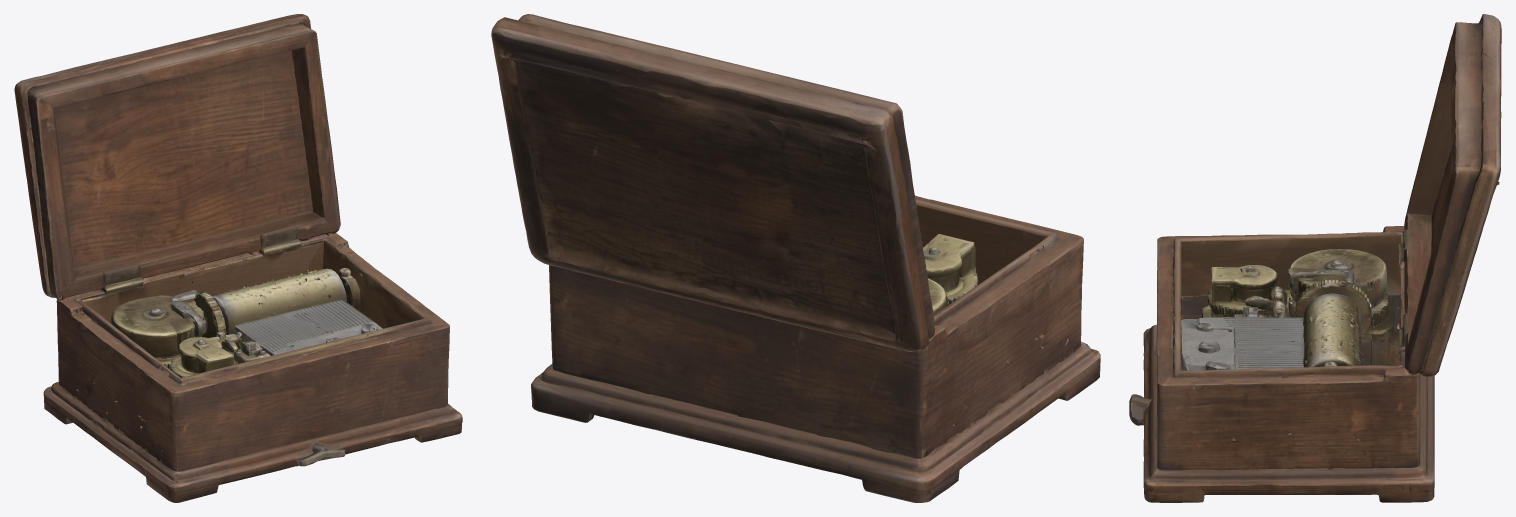
File: music-box.glb
3 views of the same model, side by side, from view 1: azimuth 30°, elevation 25°; view 2: azimuth 150°, elevation 25°; view 3: azimuth 270°, elevation 25° (orthographic). The views are drawn at different scales.
Visible parts, largest first — view 1: geometry_0; view 2: geometry_0; view 3: geometry_0.
Boxes of the visible parts, x1=… form: geometry_0: x1=14, y1=14, x2=462, y2=502; geometry_0: x1=491, y1=14, x2=1100, y2=502; geometry_0: x1=1129, y1=14, x2=1501, y2=502.
Bounding box in the file's own units: 0.28 × 0.2792 × 0.2797.
1 material, 1 textured.
